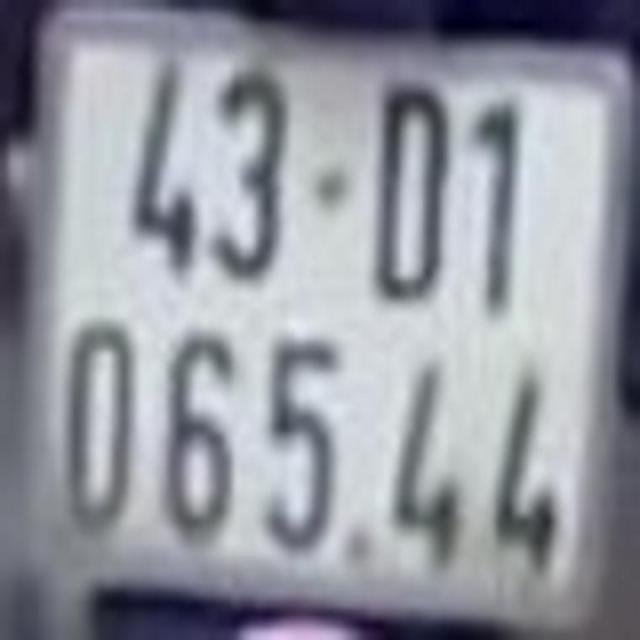0: (68, 326, 128, 532)
1: (470, 110, 520, 312)
3: (219, 55, 287, 284)
4: (126, 58, 198, 276), (396, 360, 471, 565), (496, 368, 564, 577)
5: (268, 340, 338, 546)
6: (166, 334, 237, 532)
D: (382, 80, 449, 313)
